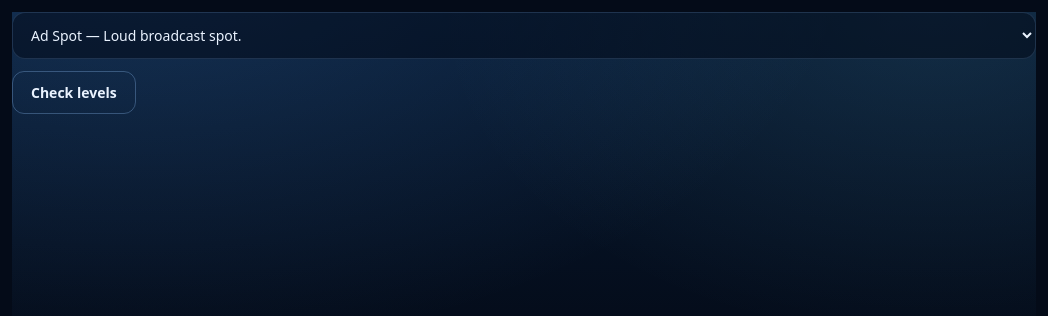
LevelCheck › skips the edge check for ad spots
Click the button "Check levels".
click(74, 92)  # box [12,71,136,114]
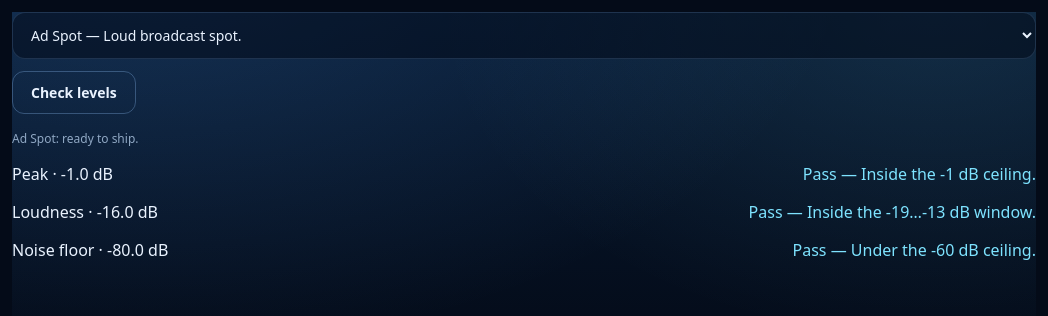
expect the text "Ad Spot: ready to ship." is shown: met, box [12,130,138,147]
